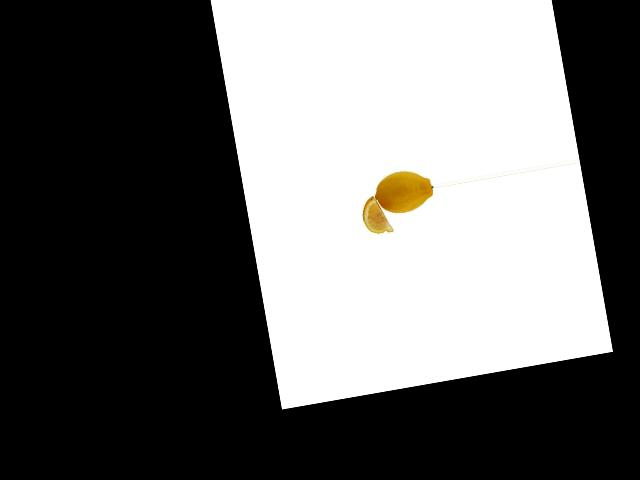lemon: (368, 164, 438, 220)
